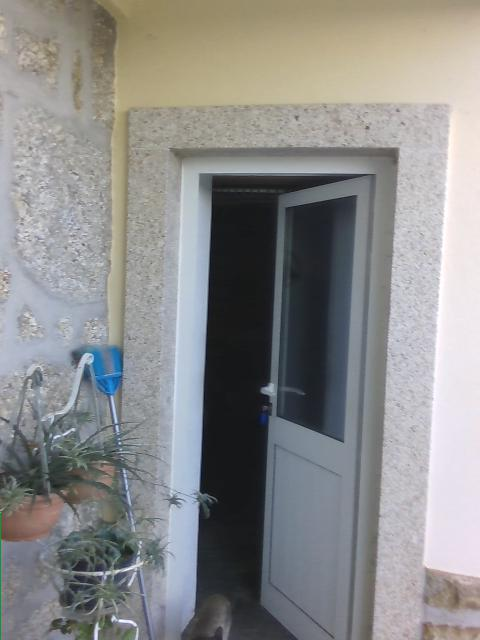semi_door: (189, 165, 378, 639)
